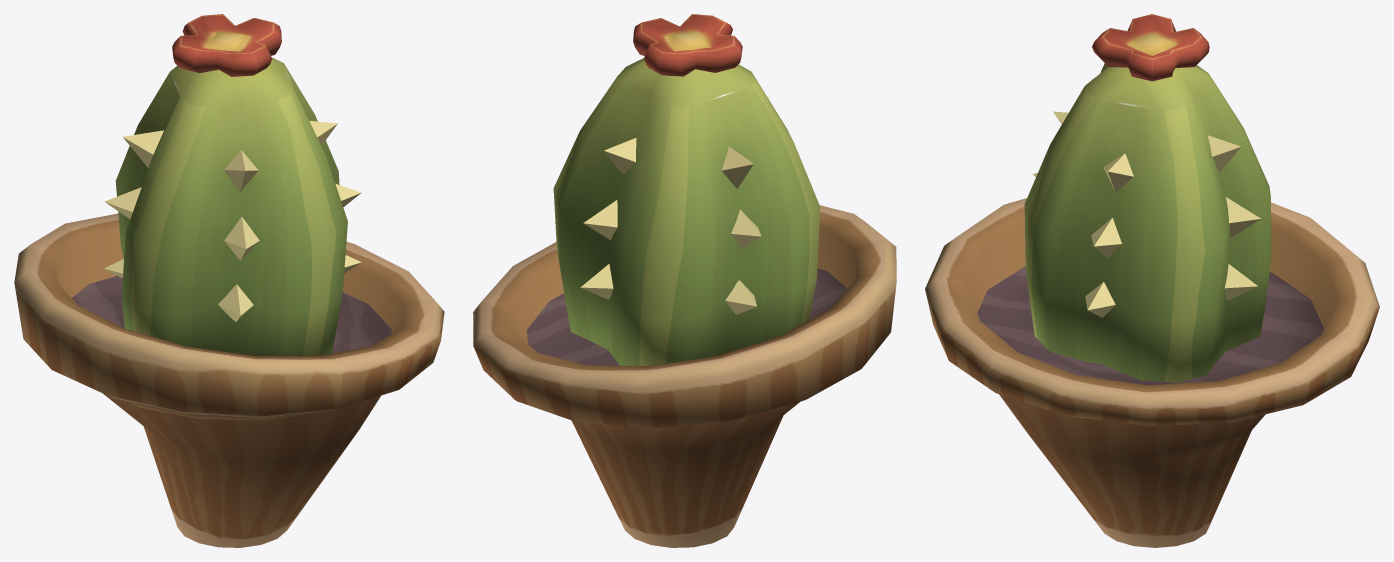
Rendered from Cactus.fbx.
3 views of the same model, side by side, from view 1: azimuth 30°, elevation 25°; view 2: azimuth 150°, elevation 25°; view 3: azimuth 270°, elevation 25° (orthographic).
Parts seen in each view (by area): view 1: Cone.009; view 2: Cone.009; view 3: Cone.009.
Part boxes in pixels (x1,y1,x2,y2): Cone.009: (14, 14, 444, 547); Cone.009: (473, 14, 896, 547); Cone.009: (925, 14, 1379, 547).
Size of the model in its own units: 43.7 by 56.15 by 47.73.
